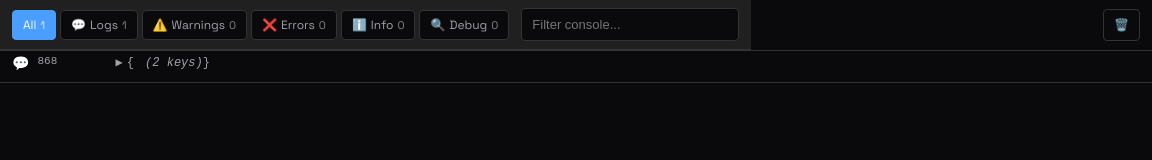
Test: ConsoleTab › should parse and display JSON objects
Click the text with class "json-toggle" at (119, 63), box x1=116 y1=56 x2=123 y2=70
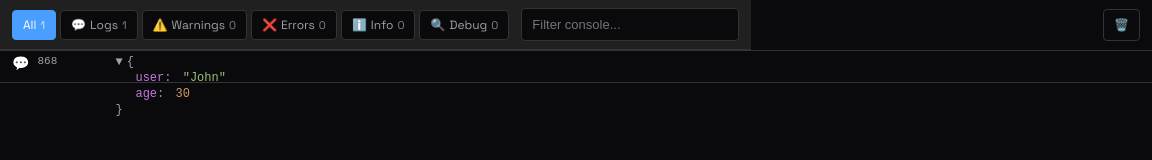
Check: the text "user:" is shown, box x1=136 y1=71 x2=172 y2=85
Check: the text "\"John\"" is shown, box x1=183 y1=71 x2=226 y2=85
